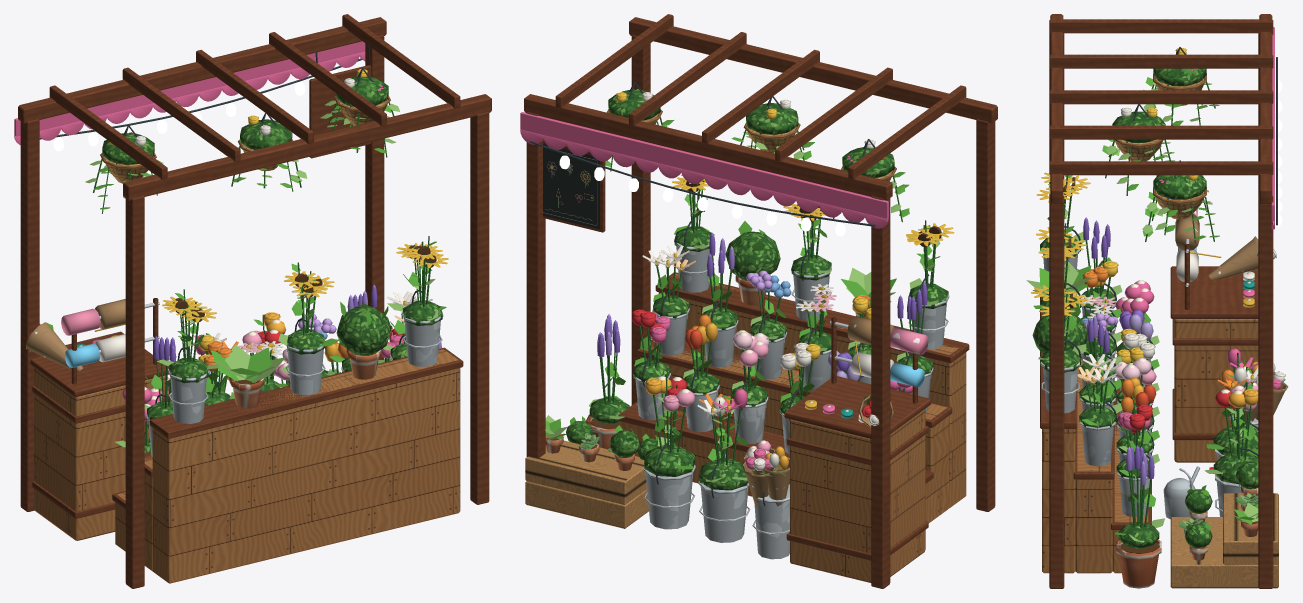
File: flower-stand.fbx
The picture shows the model from 3 angles, left to right: view 1: azimuth 30°, elevation 25°; view 2: azimuth 150°, elevation 25°; view 3: azimuth 270°, elevation 25°; orthographic projection.
Visible parts, largest first — view 1: Body, Anim Sway.014, Anim Sway.013, Anim Sway.012, Anim Sway.011, Anim Sway.010, Anim Sway.015, Anim Sway.006, Anim Sway.009; view 2: Body, Anim Sway.015, Anim Sway.016, Anim Sway.017, Anim Sway, Anim Sway.014, Anim Sway.001, Anim Sway.002, Anim Sway.006, Anim Sway.008, Anim Sway.007, Anim Sway.013 (+5 smaller); view 3: Body, Anim Sway.015, Anim Sway.017, Anim Sway.016, Anim Sway.006, Anim Sway.001, Anim Sway.012, Anim Sway, Anim Sway.007, Anim Sway.011, Anim Sway.005, Anim Sway.003 (+7 smaller).
Boxes of the visible parts, left/top/right/bottom form: Body: left=14, top=14, right=491, bottom=588; Anim Sway.014: left=157, top=289, right=218, bottom=383; Anim Sway.013: left=278, top=262, right=339, bottom=354; Anim Sway.012: left=387, top=236, right=448, bottom=325; Anim Sway.011: left=144, top=336, right=176, bottom=419; Anim Sway.010: left=198, top=335, right=234, bottom=405; Anim Sway.015: left=231, top=312, right=286, bottom=395; Anim Sway.006: left=383, top=291, right=432, bottom=359; Anim Sway.009: left=238, top=341, right=287, bottom=392; Body: left=520, top=14, right=997, bottom=588; Anim Sway.015: left=644, top=376, right=695, bottom=476; Anim Sway.016: left=697, top=388, right=748, bottom=490; Anim Sway.017: left=589, top=314, right=629, bottom=423; Anim Sway: left=631, top=309, right=670, bottom=382; Anim Sway.014: left=906, top=220, right=954, bottom=308; Anim Sway.001: left=683, top=314, right=718, bottom=394; Anim Sway.002: left=732, top=330, right=769, bottom=406; Anim Sway.006: left=642, top=245, right=695, bottom=318; Anim Sway.008: left=746, top=270, right=791, bottom=341; Anim Sway.007: left=702, top=232, right=737, bottom=329; Anim Sway.013: left=783, top=203, right=831, bottom=280; Body: left=1026, top=14, right=1288, bottom=588; Anim Sway.015: left=1204, top=382, right=1258, bottom=484; Anim Sway.017: left=1115, top=445, right=1164, bottom=548; Anim Sway.016: left=1206, top=348, right=1258, bottom=454; Anim Sway.006: left=1077, top=354, right=1122, bottom=427; Anim Sway.001: left=1116, top=377, right=1159, bottom=453; Anim Sway.012: left=1031, top=285, right=1088, bottom=372; Anim Sway: left=1116, top=404, right=1159, bottom=478; Anim Sway.007: left=1079, top=315, right=1121, bottom=403; Anim Sway.011: left=1081, top=217, right=1122, bottom=309; Anim Sway.005: left=1115, top=280, right=1159, bottom=359; Anim Sway.003: left=1116, top=328, right=1159, bottom=407.
Size of the model in its own units: 2.26 by 2.44 by 1.41.
